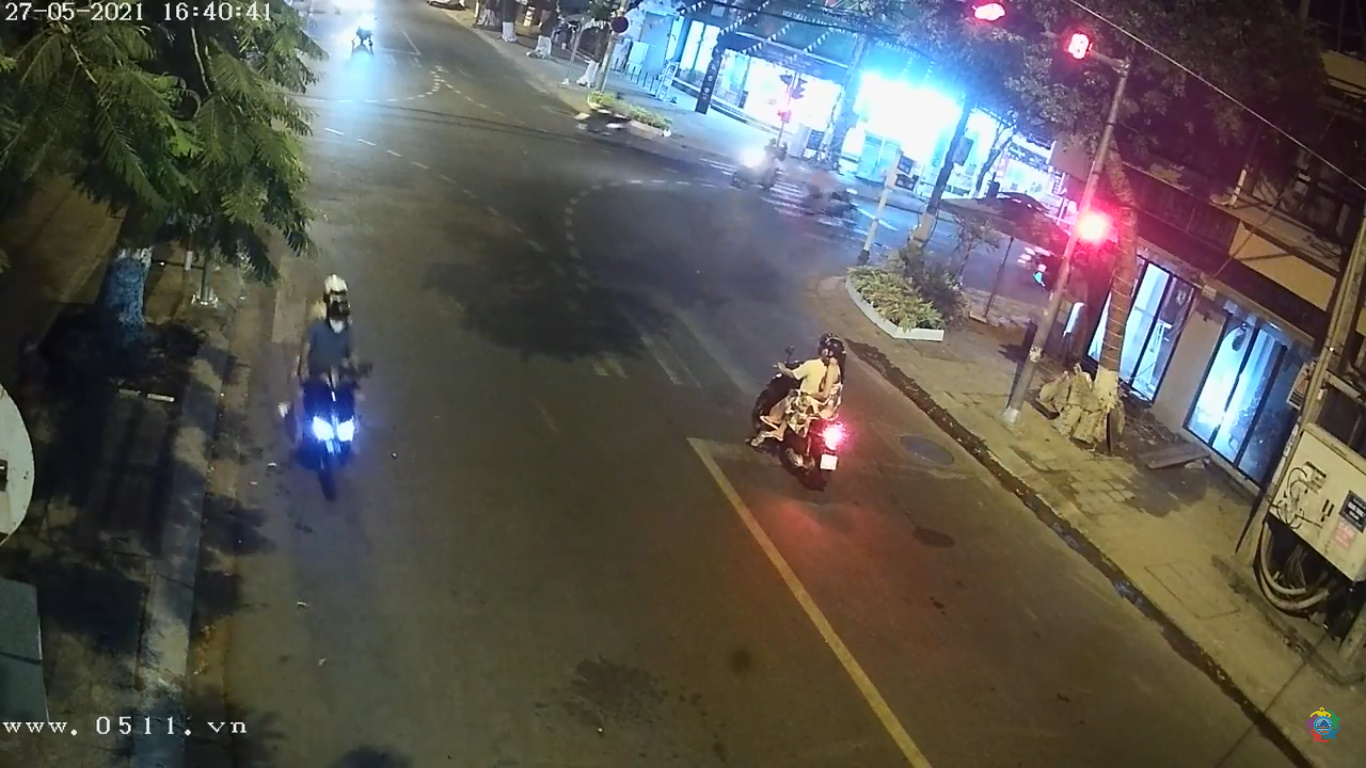motorbike: (264, 270, 383, 511)
